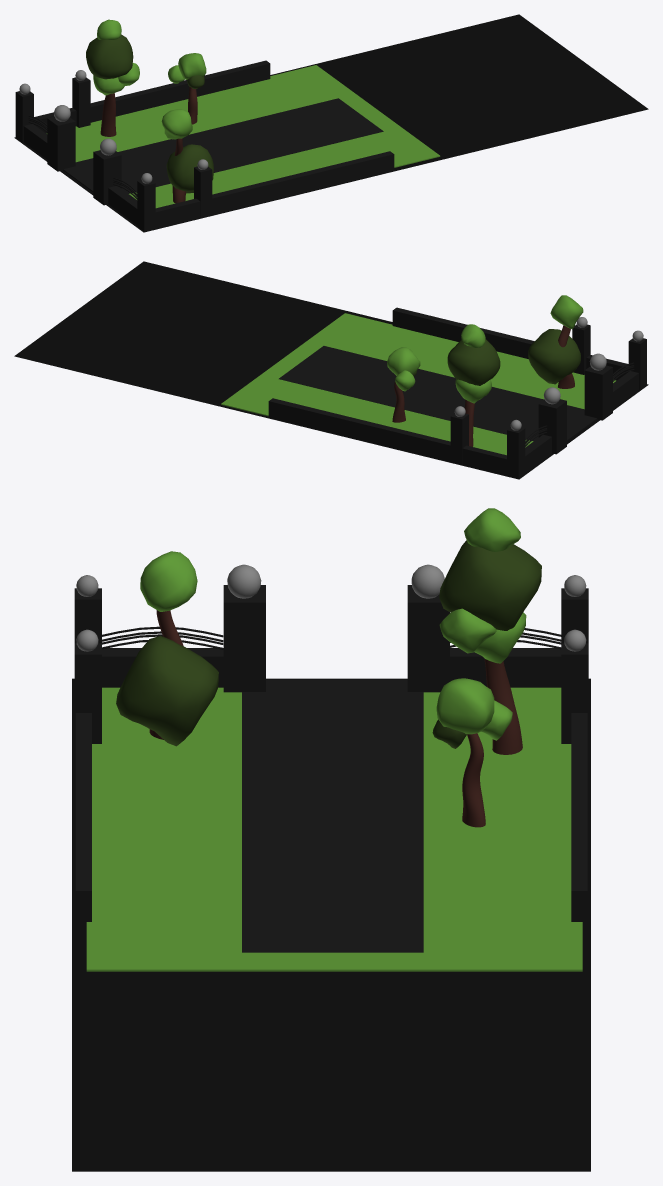
The model's file is Park_1.fbx.
The picture shows the model from 3 angles, top to bottom: view 1: azimuth 30°, elevation 25°; view 2: azimuth 150°, elevation 25°; view 3: azimuth 270°, elevation 25°; orthographic projection. The views are drawn at different scales.
Visible parts, largest first — view 1: Box028; view 2: Box028; view 3: Box028.
Part boxes in pixels (box(x1,y1,x2,y2)): Box028: box(14, 14, 648, 232); Box028: box(14, 261, 648, 479); Box028: box(72, 508, 590, 1171).
Size of the model in its own units: 1806 by 405 by 800.
